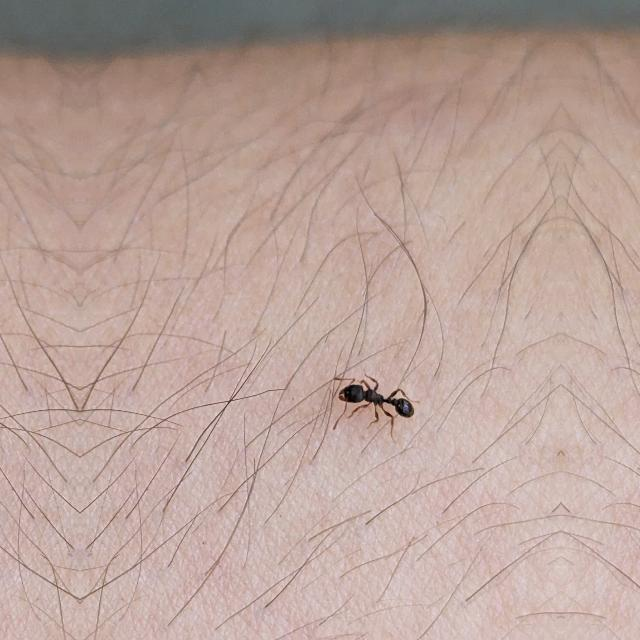Tetramorium: (318, 363, 420, 427)
